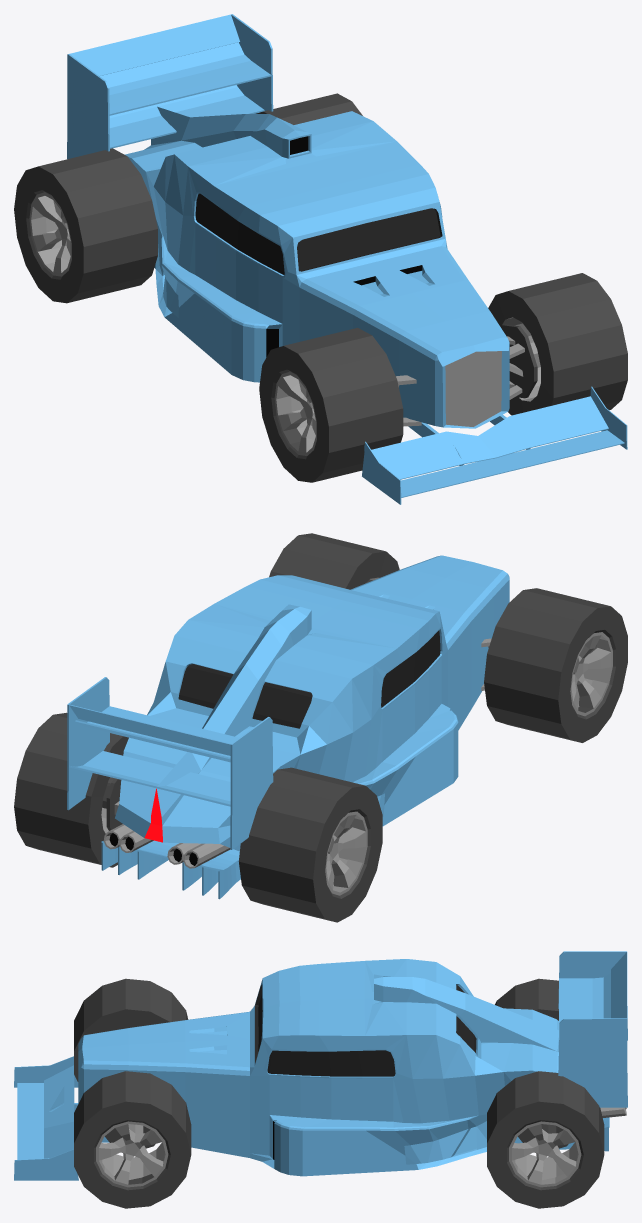
File: f_132_racing_rod.glb
3 renders of one model, top to bottom at view 1: azimuth 30°, elevation 25°; view 2: azimuth 150°, elevation 25°; view 3: azimuth 270°, elevation 25°, orthographic. The views are drawn at different scales.
Visible parts, largest first — view 1: carroceria, ruedas traceras.001, ruedas delanteras.001, ruedas delanteras, ruedas traceras; view 2: carroceria, ruedas delanteras.001, ruedas traceras.001, ruedas traceras, ruedas delanteras; view 3: carroceria, ruedas delanteras, ruedas traceras, ruedas delanteras.001, ruedas traceras.001.
Boxes of the visible parts, left/top/right/bottom form: carroceria: left=67, top=14, right=627, bottom=504; ruedas traceras.001: left=14, top=148, right=157, bottom=303; ruedas delanteras.001: left=259, top=327, right=403, bottom=482; ruedas delanteras: left=488, top=273, right=627, bottom=415; ruedas traceras: left=256, top=93, right=362, bottom=124; carroceria: left=67, top=555, right=509, bottom=899; ruedas delanteras.001: left=484, top=588, right=627, bottom=742; ruedas traceras.001: left=238, top=767, right=382, bottom=922; ruedas traceras: left=14, top=712, right=128, bottom=867; ruedas delanteras: left=269, top=533, right=399, bottom=589; carroceria: left=14, top=951, right=627, bottom=1180; ruedas delanteras: left=74, top=1071, right=191, bottom=1208; ruedas traceras: left=487, top=1071, right=604, bottom=1208; ruedas delanteras.001: left=74, top=978, right=188, bottom=1082; ruedas traceras.001: left=495, top=978, right=558, bottom=1020.
Bounding box in the file's own units: 2.08 × 1.34 × 4.38.
